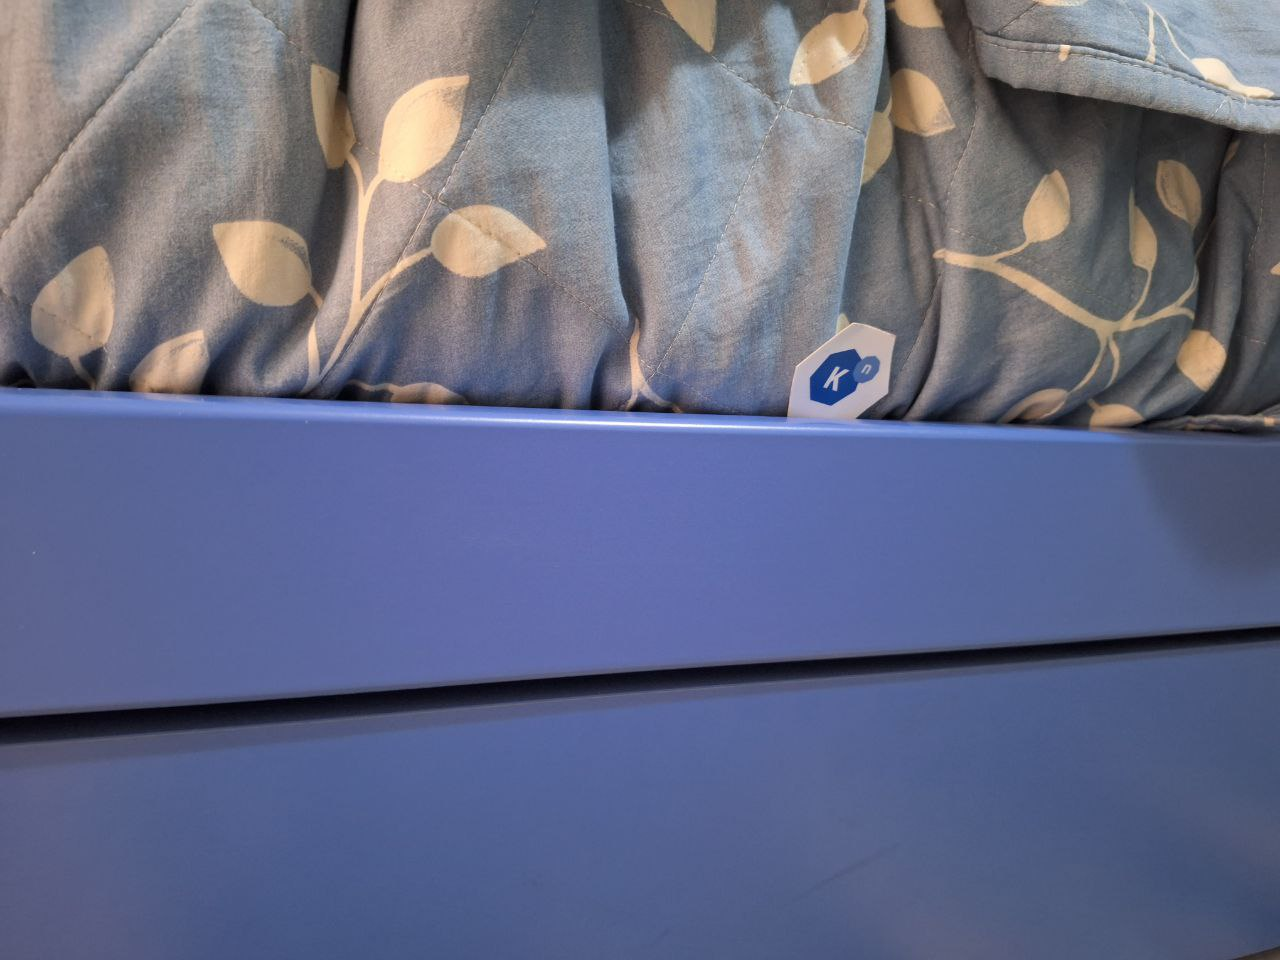knative: (810, 342, 882, 406)
